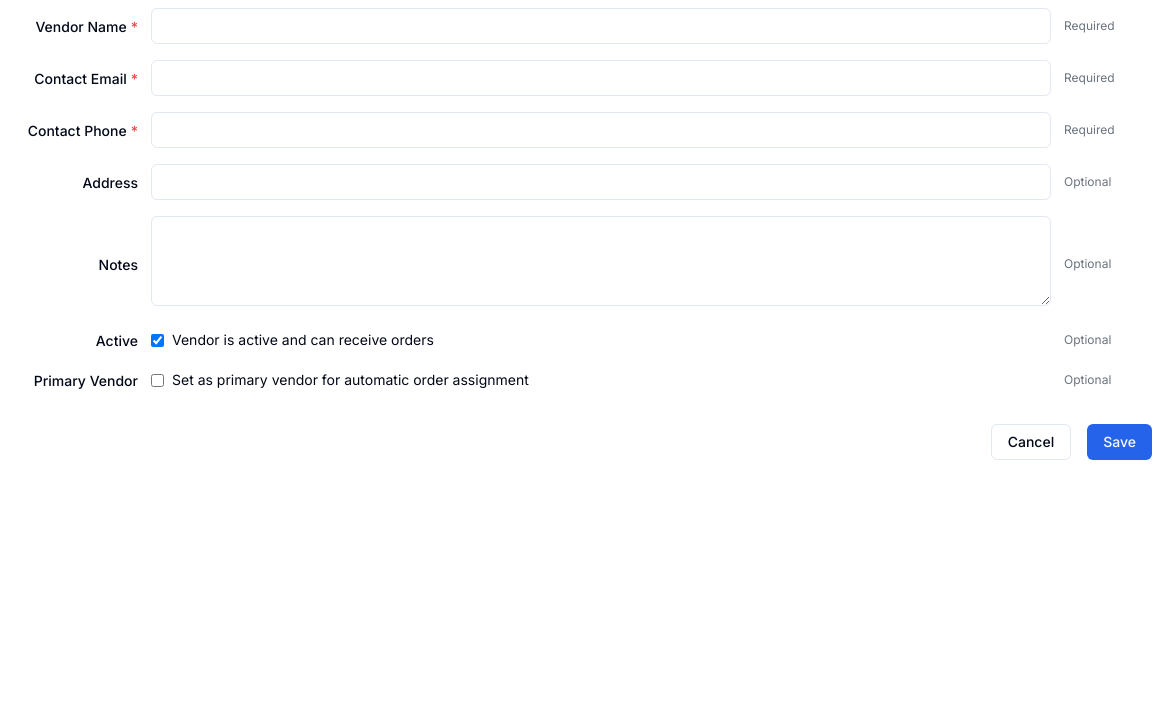
VendorForm Component › create mode › should show validation errors for empty required fields
Click the button "Save" at (1120, 442), box [1087,424,1152,460]
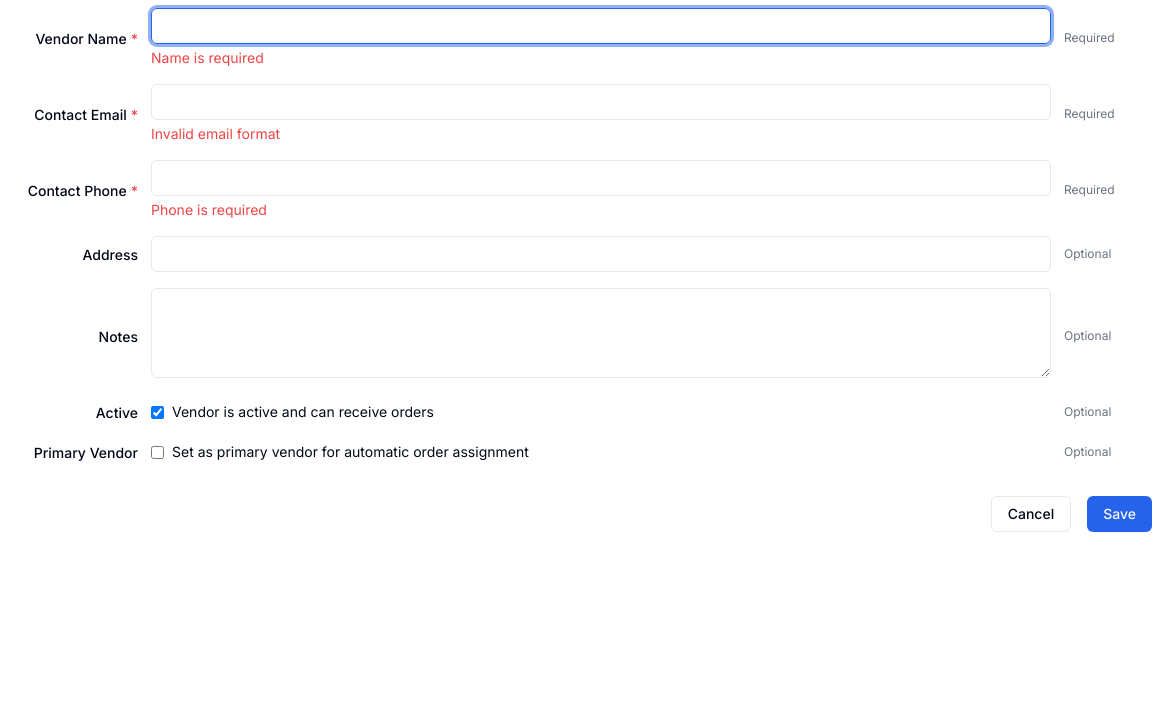
Check: the text "Name is required" is shown, box [151,49,264,66]
Check: the text "Invalid email format" is shown, box [151,125,280,142]
Check: the text "Phone is required" is shown, box [151,201,267,218]
